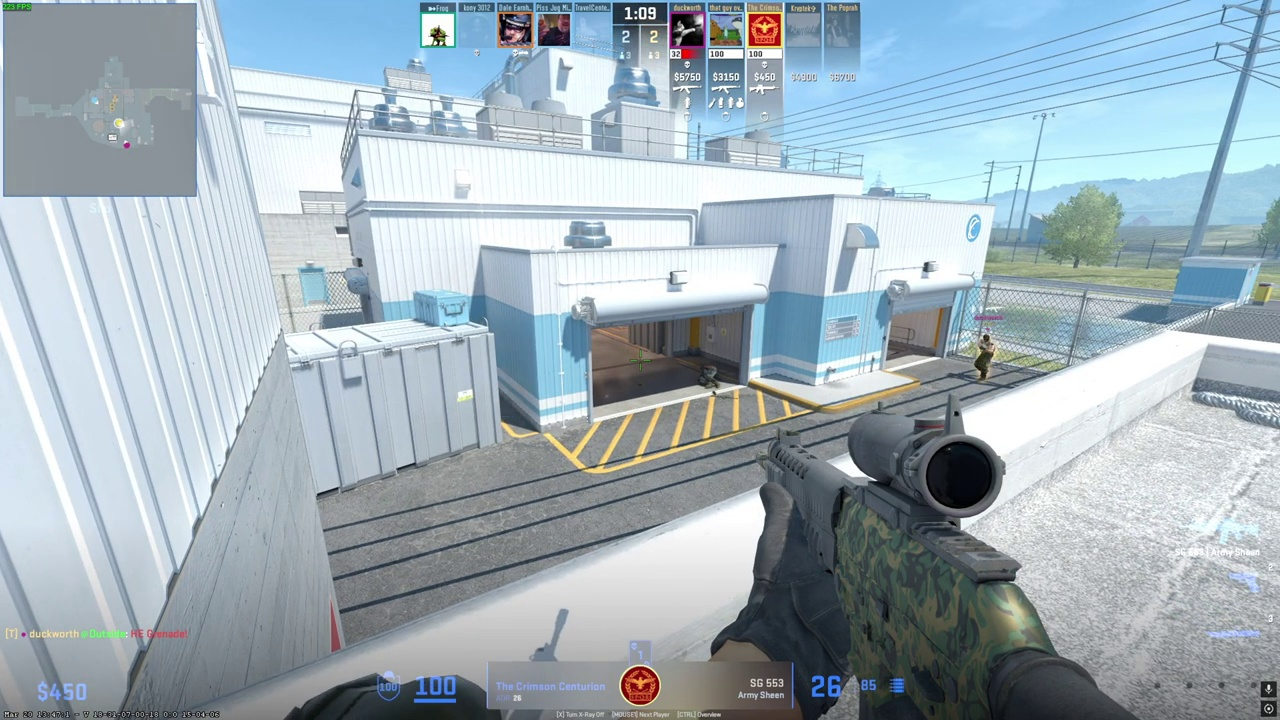Terrorist: (974, 334, 995, 380)
